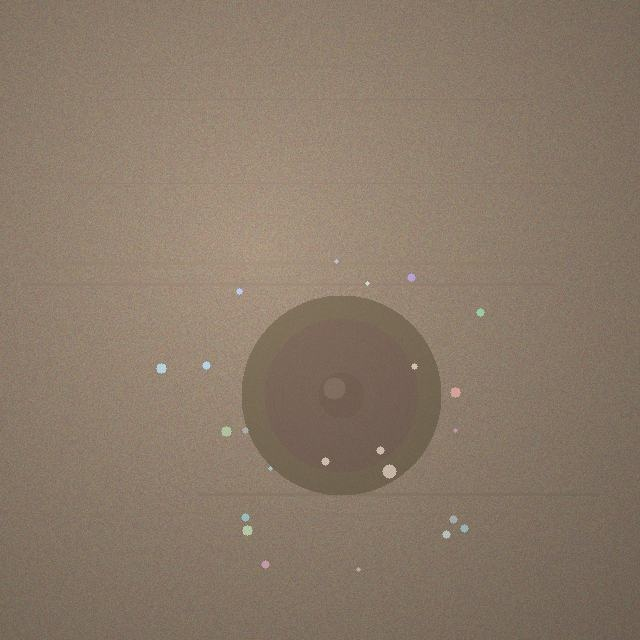overburn: (241, 295, 441, 495)
